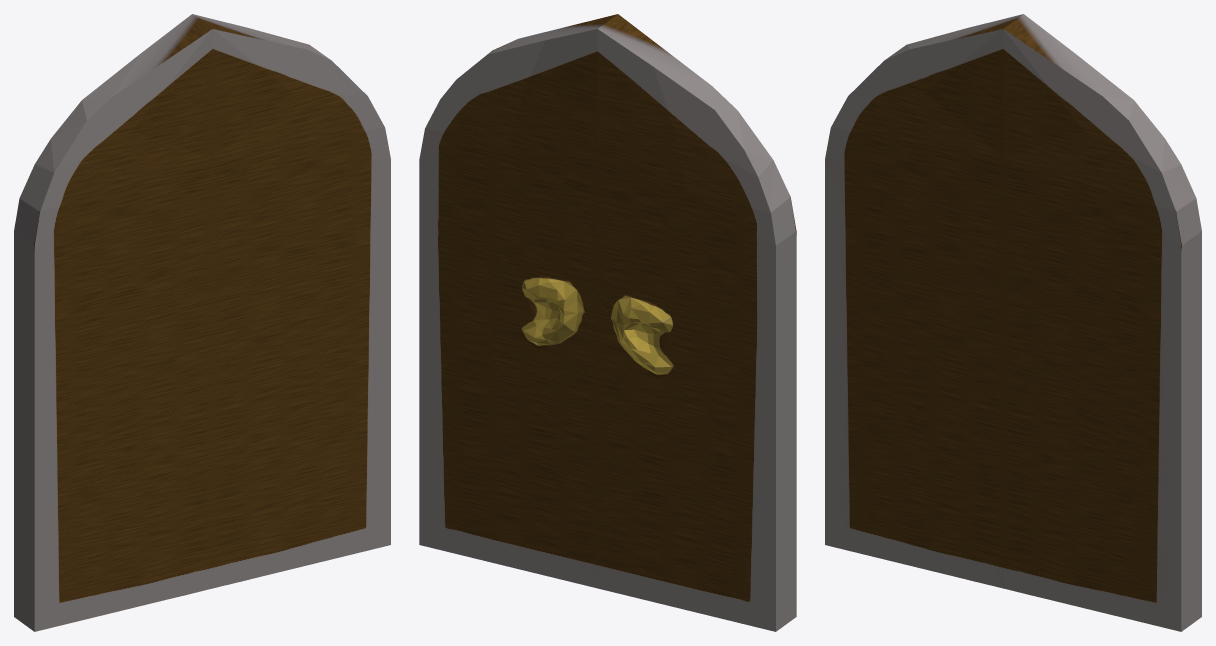
Rendered from grandDoor.glb.
3 views of the same model, side by side, from view 1: azimuth 30°, elevation 25°; view 2: azimuth 150°, elevation 25°; view 3: azimuth 330°, elevation 25° (orthographic).
Visible parts, largest first — view 1: grandDoor.001; view 2: grandDoor.001; view 3: grandDoor.001.
Part boxes in pixels (<box>): grandDoor.001: <box>14,14,390,631</box>; grandDoor.001: <box>419,14,796,631</box>; grandDoor.001: <box>825,14,1201,631</box>.
Bounding box in the file's own units: 2 × 3 × 0.2437.
1 material, 1 textured.
